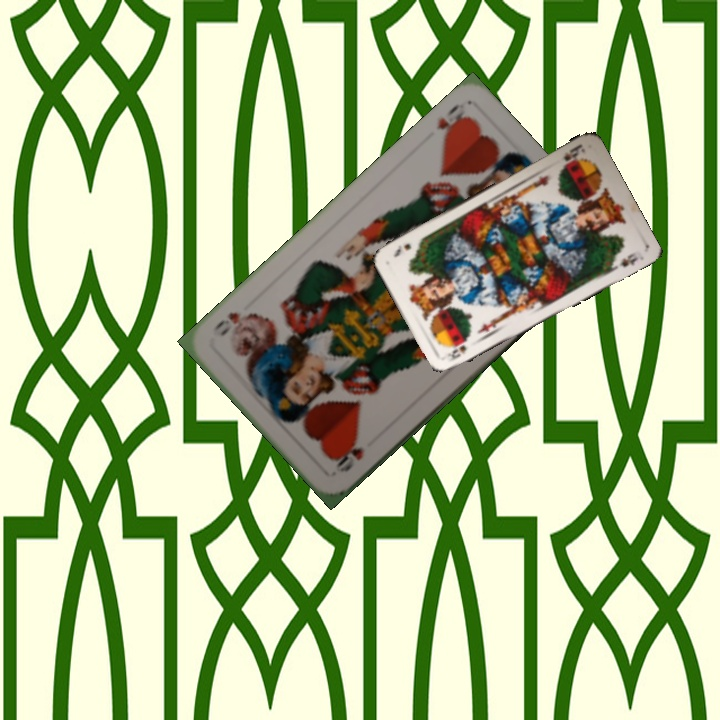HO: (432, 99, 472, 145), (331, 442, 366, 475)
SK: (559, 140, 588, 169), (443, 341, 469, 365)
